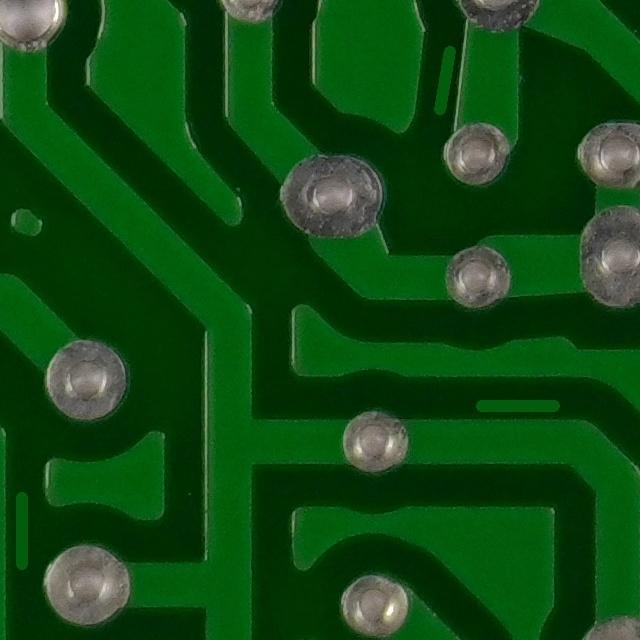spurious_copper: (412, 33, 476, 126), (463, 382, 572, 433), (0, 476, 44, 587)
